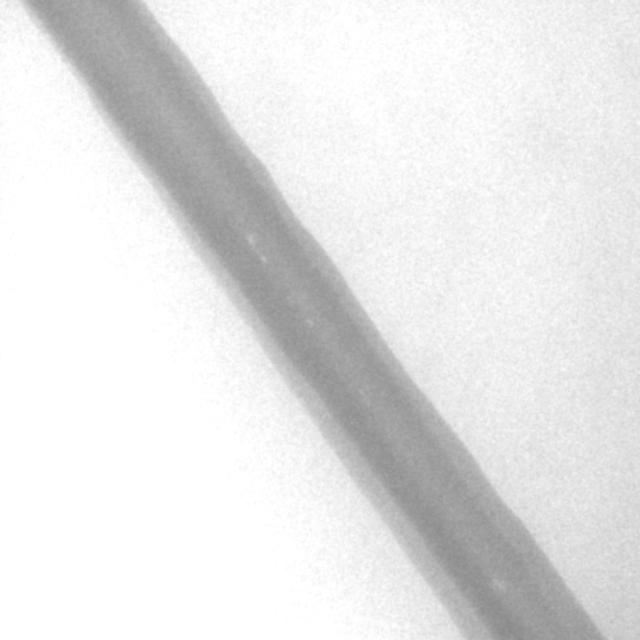air hole: (245, 231, 255, 247), (258, 253, 269, 267), (304, 315, 315, 329)
